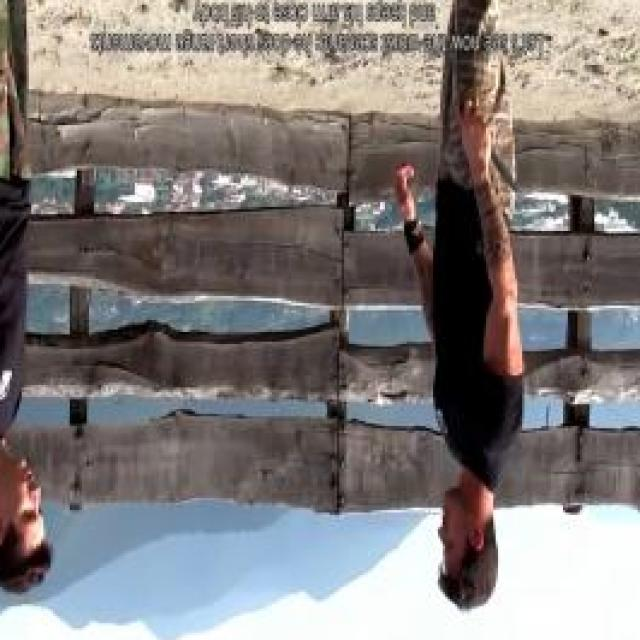knife: (452, 97, 522, 200)
